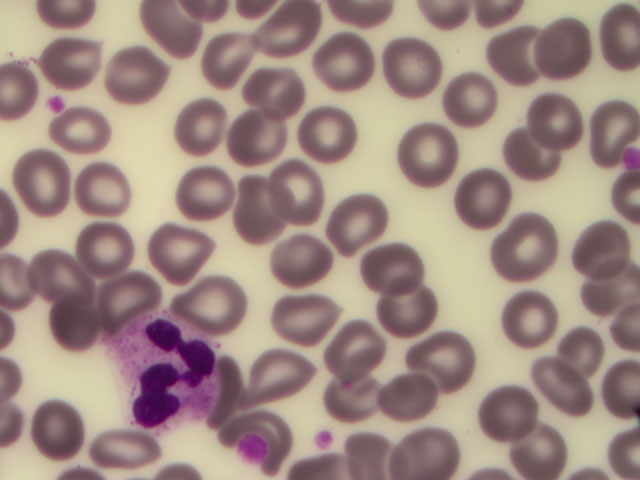Platelets: (239, 434, 270, 460), (310, 430, 341, 449), (44, 92, 66, 113)
RBC: (40, 34, 99, 90), (107, 49, 166, 105), (52, 103, 111, 159), (11, 149, 70, 205), (75, 160, 134, 216), (165, 163, 224, 219), (172, 107, 231, 163), (194, 35, 253, 91), (152, 4, 211, 60), (258, 2, 317, 58), (253, 60, 312, 116), (238, 104, 297, 160), (298, 105, 357, 161), (317, 37, 376, 93), (379, 37, 438, 93), (393, 121, 452, 177), (438, 70, 497, 126), (504, 129, 563, 185), (516, 95, 575, 151), (489, 31, 548, 87), (532, 14, 591, 70), (581, 88, 640, 144), (580, 218, 639, 274), (490, 217, 549, 273), (445, 172, 504, 228), (358, 237, 417, 293), (326, 197, 385, 253), (266, 232, 325, 288), (276, 158, 335, 214), (225, 178, 284, 234), (156, 223, 215, 279), (98, 264, 157, 320), (89, 233, 148, 289), (34, 252, 93, 308), (38, 299, 97, 355), (30, 401, 89, 457), (96, 421, 155, 477), (253, 351, 312, 407), (184, 277, 243, 333), (289, 287, 348, 343), (325, 325, 384, 381), (394, 275, 453, 331), (421, 332, 480, 388), (381, 374, 440, 430), (323, 378, 382, 434), (359, 424, 418, 480), (403, 424, 462, 480), (484, 380, 543, 436), (512, 423, 571, 479), (532, 361, 591, 417), (549, 318, 608, 374), (497, 292, 556, 348), (581, 265, 640, 321)
WBC: (103, 312, 228, 426)
